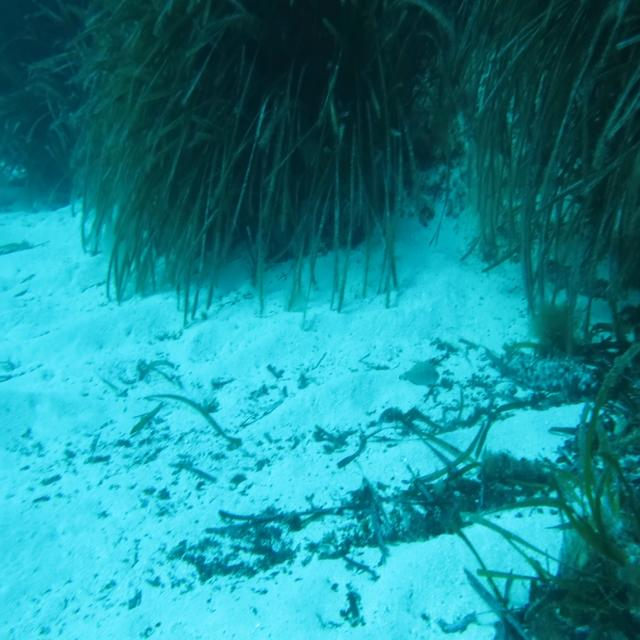SA: (394, 345, 448, 395)
vegetation: (0, 0, 640, 306), (410, 330, 640, 640)
